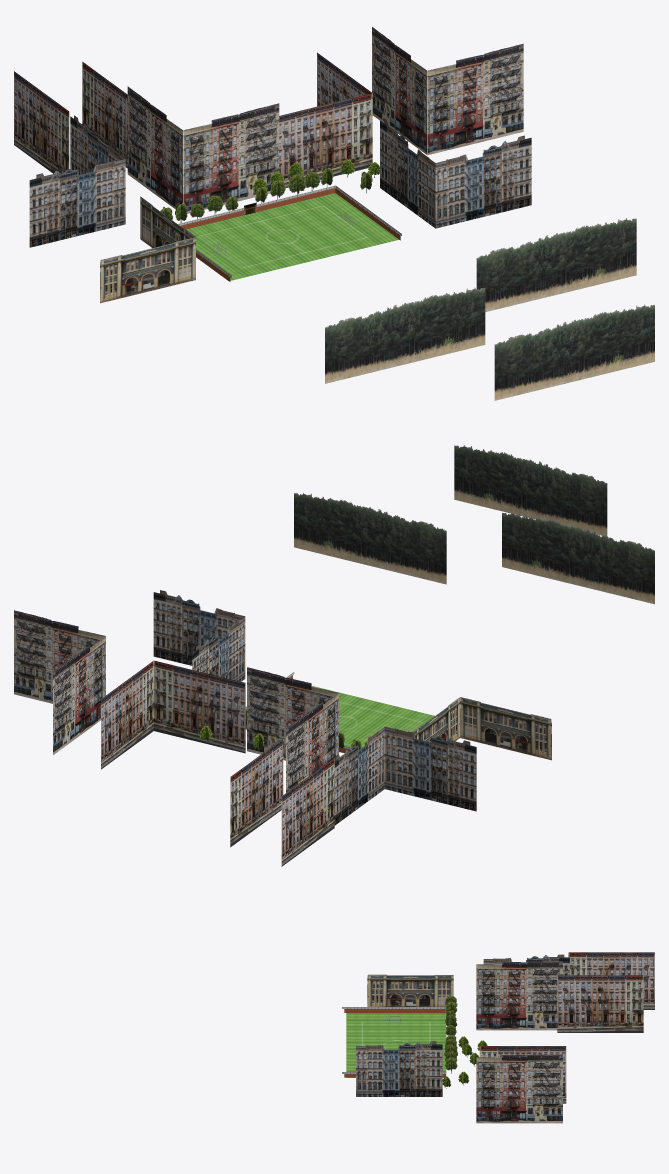
The model's file is BG_all.fbx.
3 renders of one model, top to bottom at view 1: azimuth 30°, elevation 25°; view 2: azimuth 150°, elevation 25°; view 3: azimuth 270°, elevation 25°, orthographic. The views are drawn at different scales.
Visible parts, largest first — view 1: polySurface3 (×3), pPlane50, ground, polySurface11, polySurface12, polySurface10, polySurface13, building7, polySurface14, polySurface4, polySurface7, polySurface8 (+2 smaller); view 2: polySurface3 (×3), building7, polySurface11, polySurface10, polySurface12, pPlane50, polySurface13, polySurface14, polySurface8, polySurface9, polySurface7, polySurface2 (+2 smaller); view 3: polySurface14, polySurface4, polySurface9, pPlane50, ground, polySurface3, polySurface8, polySurface2, building7, pPlane6.
Boxes of the visible parts, <box> form: polySurface3 (×3): <box>140,93,372,248</box>; pPlane50: <box>380,120,531,228</box>; ground: <box>186,193,398,280</box>; polySurface11: <box>325,287,485,383</box>; polySurface12: <box>494,304,654,400</box>; polySurface10: <box>476,218,636,311</box>; polySurface13: <box>427,43,523,154</box>; building7: <box>29,115,125,247</box>; polySurface14: <box>372,27,427,154</box>; polySurface4: <box>127,86,182,209</box>; polySurface7: <box>100,237,195,303</box>; polySurface8: <box>14,71,69,173</box>; polySurface3 (×3): <box>154,660,460,760</box>; building7: <box>334,726,476,825</box>; polySurface11: <box>502,512,654,604</box>; polySurface10: <box>294,493,446,584</box>; polySurface12: <box>454,445,607,536</box>; pPlane50: <box>153,590,245,681</box>; polySurface13: <box>14,610,105,703</box>; polySurface14: <box>53,636,105,754</box>; polySurface8: <box>281,758,334,866</box>; polySurface9: <box>230,738,283,847</box>; polySurface7: <box>460,697,551,760</box>; polySurface2: <box>101,660,153,769</box>; polySurface14: <box>476,1054,562,1123</box>; polySurface4: <box>476,961,562,1030</box>; polySurface9: <box>557,975,643,1032</box>; pPlane50: <box>356,1041,442,1096</box>; ground: <box>346,1013,446,1077</box>; polySurface3: <box>367,974,453,1006</box>; polySurface8: <box>568,952,654,1009</box>; polySurface2: <box>479,1046,566,1103</box>; building7: <box>483,954,569,975</box>; pPlane6: <box>344,1009,445,1012</box>.
Size of the model in its own units: 239 by 47.16 by 345.
